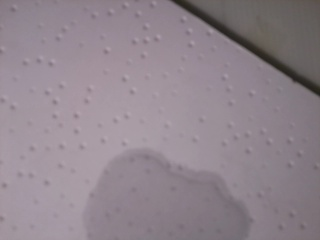Water_detected: (107, 159, 206, 240)
